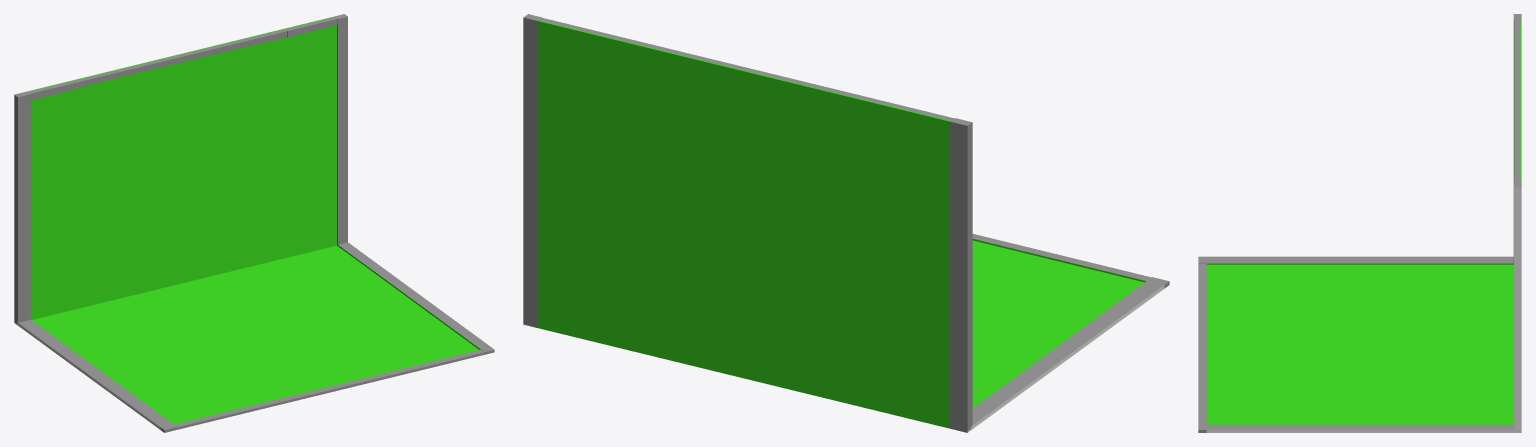
The model's file is GreenScreen.fbx.
3 views of the same model, side by side, from view 1: azimuth 30°, elevation 25°; view 2: azimuth 150°, elevation 25°; view 3: azimuth 270°, elevation 25° (orthographic). The views are drawn at different scales.
Visible parts, largest first — view 1: Cube; view 2: Cube; view 3: Cube.
Boxes of the visible parts, left/top/right/bottom form: Cube: left=14, top=14, right=494, bottom=432; Cube: left=523, top=14, right=1169, bottom=432; Cube: left=1198, top=14, right=1521, bottom=432.
Bounding box in the file's own units: 63.76 × 50.25 × 42.13.
